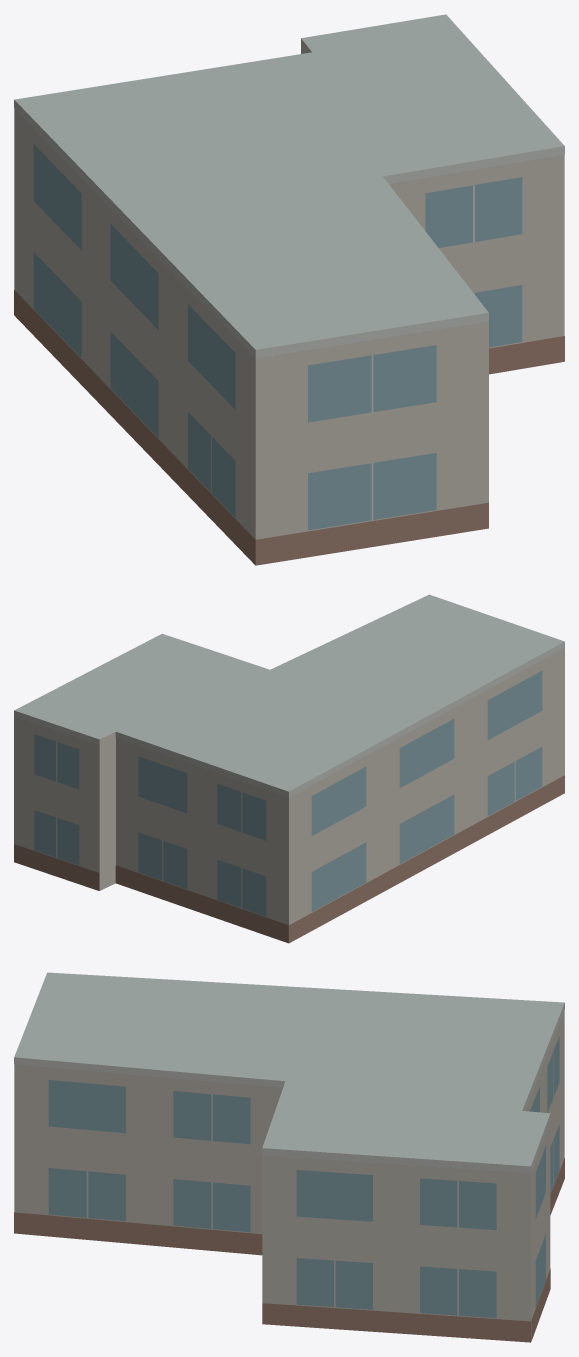
The model's file is survey-upis-32669591.glb.
The picture shows the model from 3 angles, top to bottom: view 1: azimuth 30°, elevation 25°; view 2: azimuth 150°, elevation 25°; view 3: azimuth 270°, elevation 25°; orthographic projection. The views are drawn at different scales.
Visible parts, largest first — view 1: survey-upis-32669591.tmp; view 2: survey-upis-32669591.tmp; view 3: survey-upis-32669591.tmp.
Boxes of the visible parts, x1=… form: survey-upis-32669591.tmp: x1=14, y1=14, x2=564, y2=565; survey-upis-32669591.tmp: x1=14, y1=594, x2=564, y2=943; survey-upis-32669591.tmp: x1=14, y1=972, x2=564, y2=1342.
Bounding box in the file's own units: 14.42 × 6.1 × 17.3.
